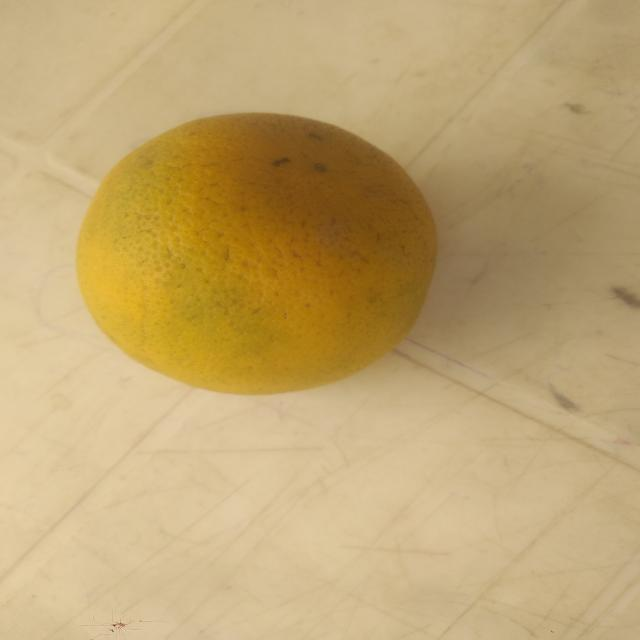Ripe orange: (53, 96, 478, 418)
